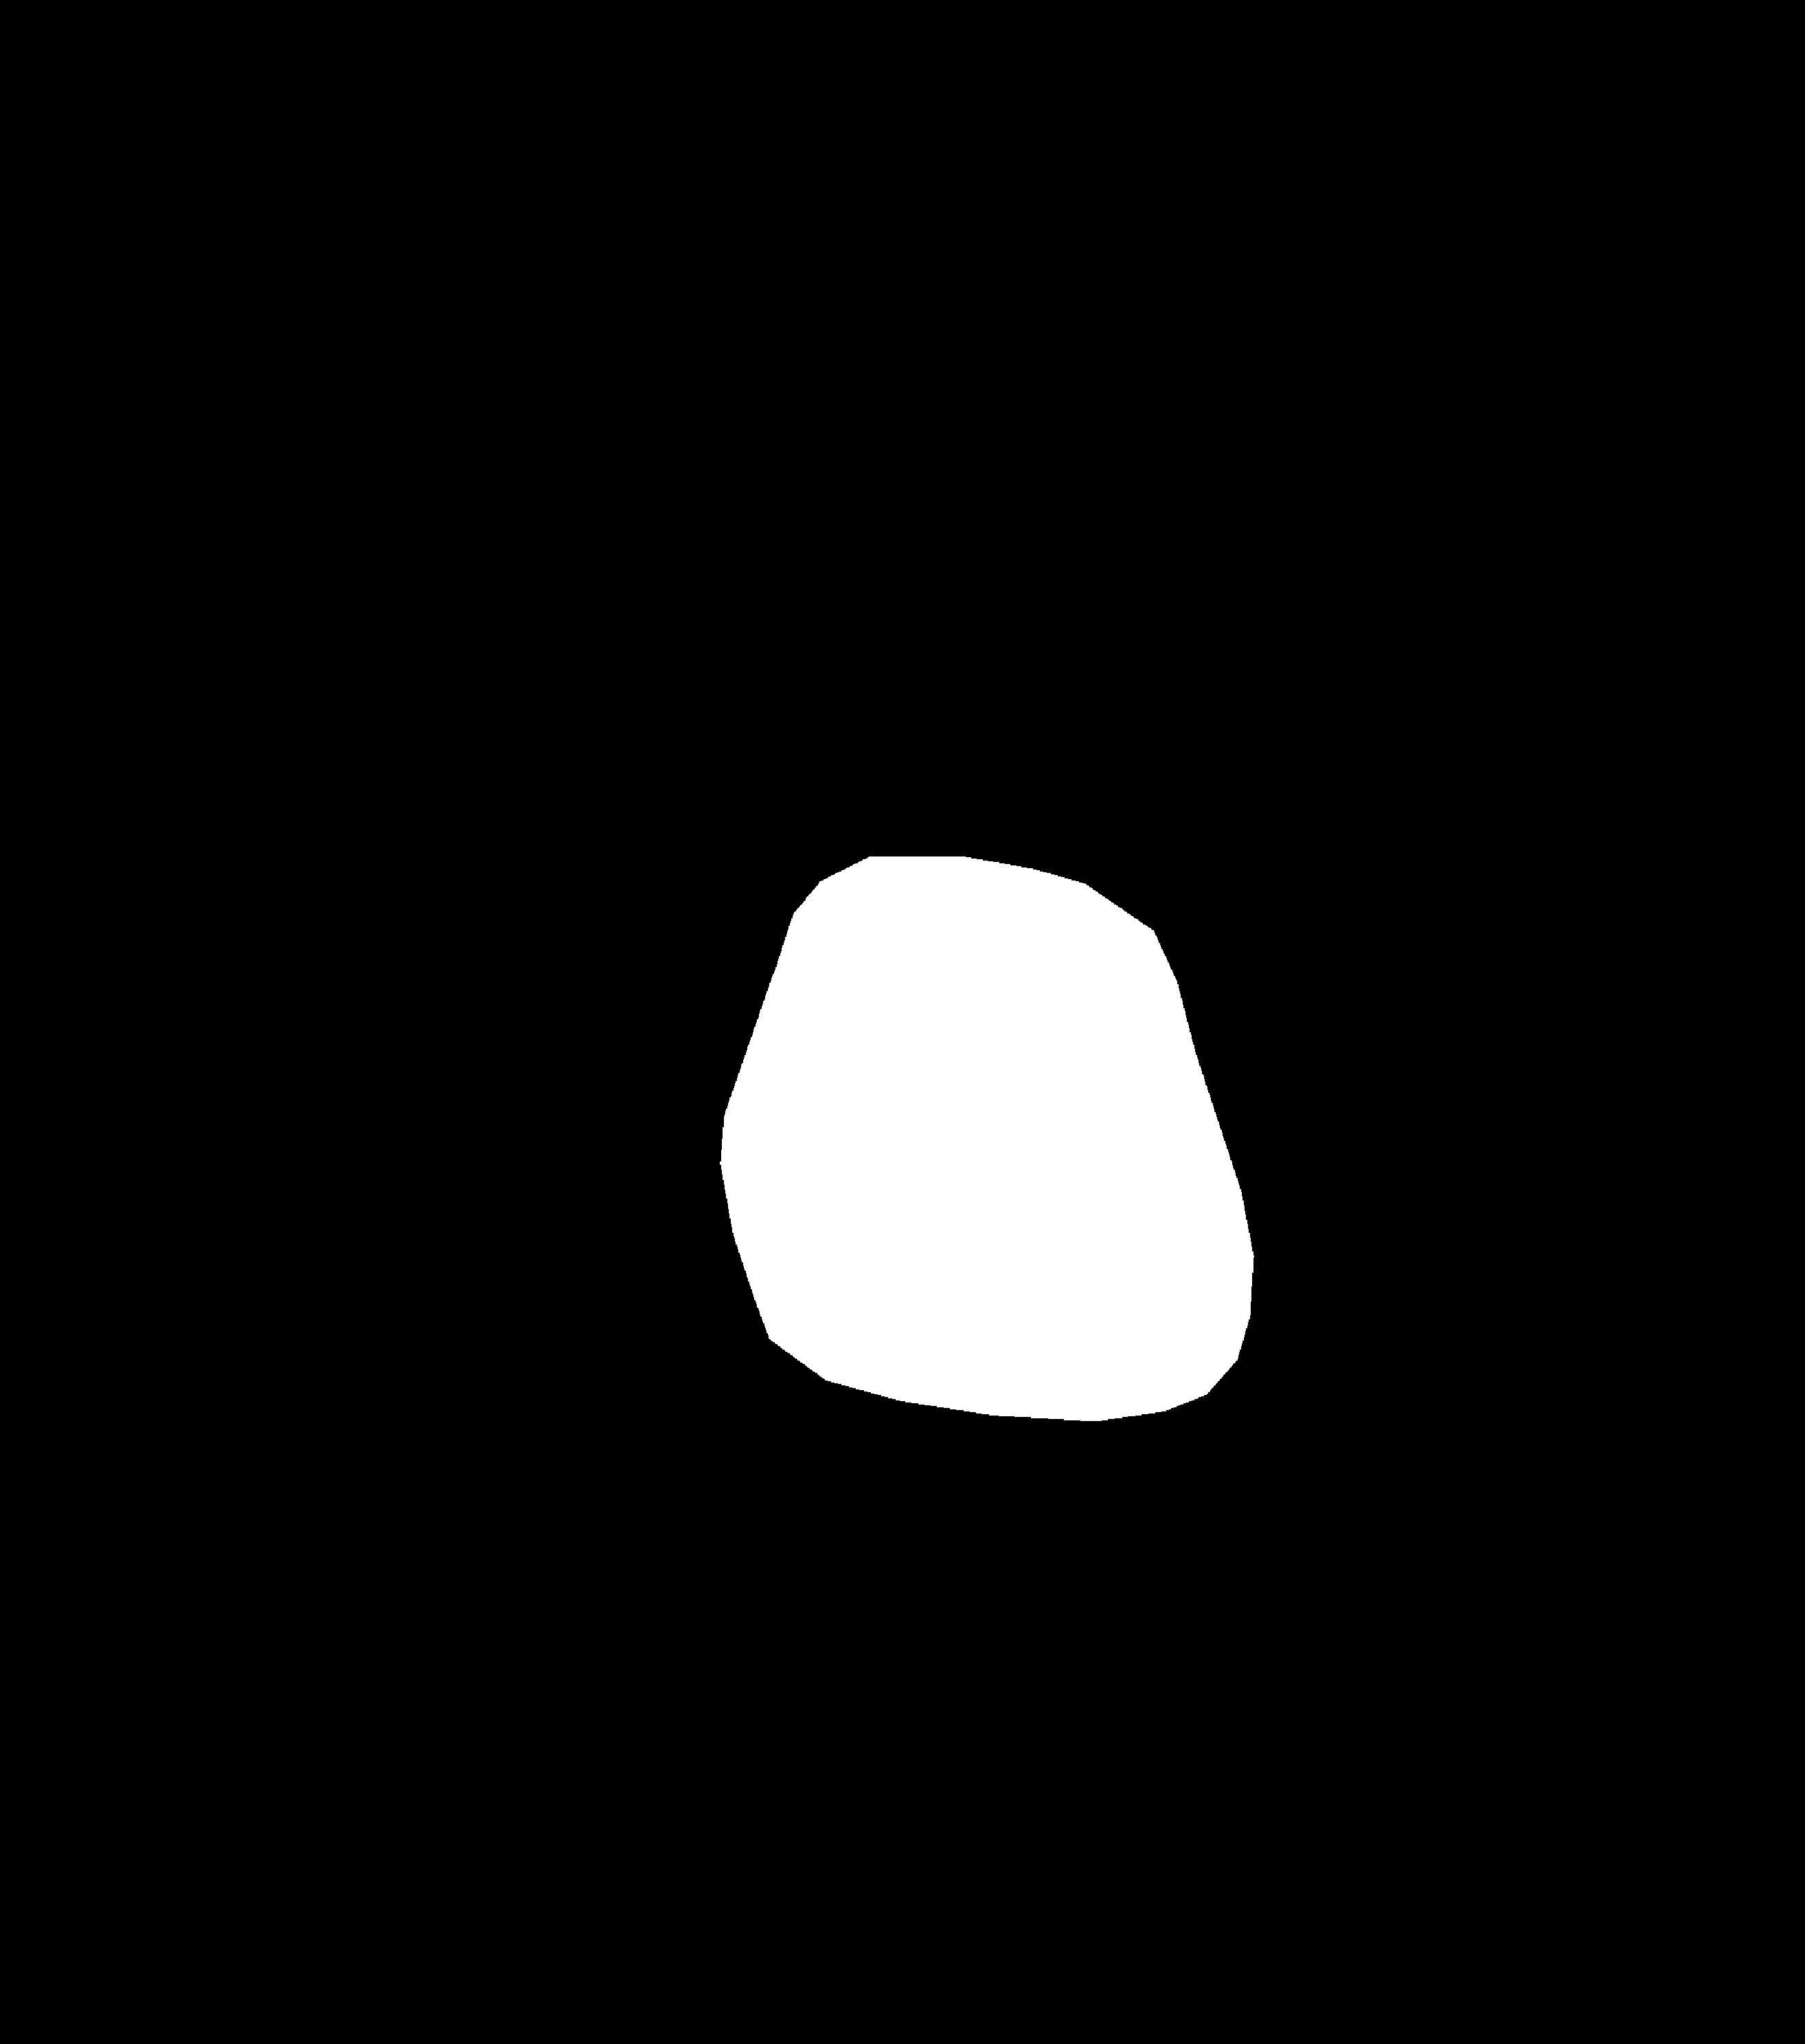heart: (721, 967, 1253, 1418)
left_lung: (228, 286, 829, 1741)
right_lung: (976, 251, 1570, 1673)
